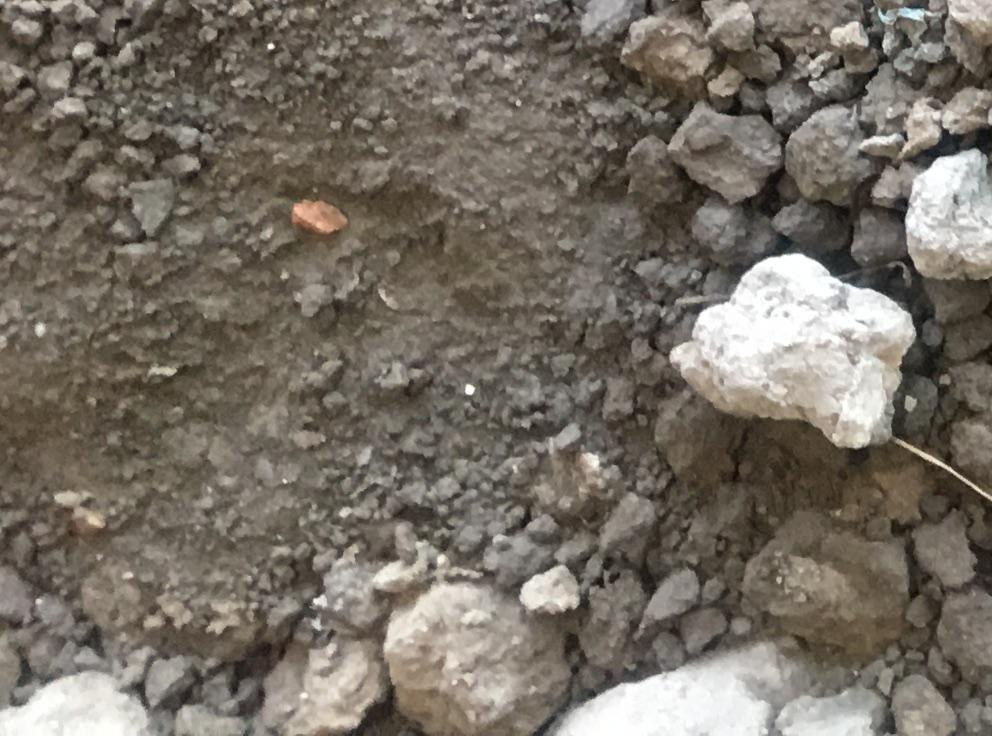block: (667, 248, 910, 457), (380, 576, 571, 736), (902, 149, 992, 280)
